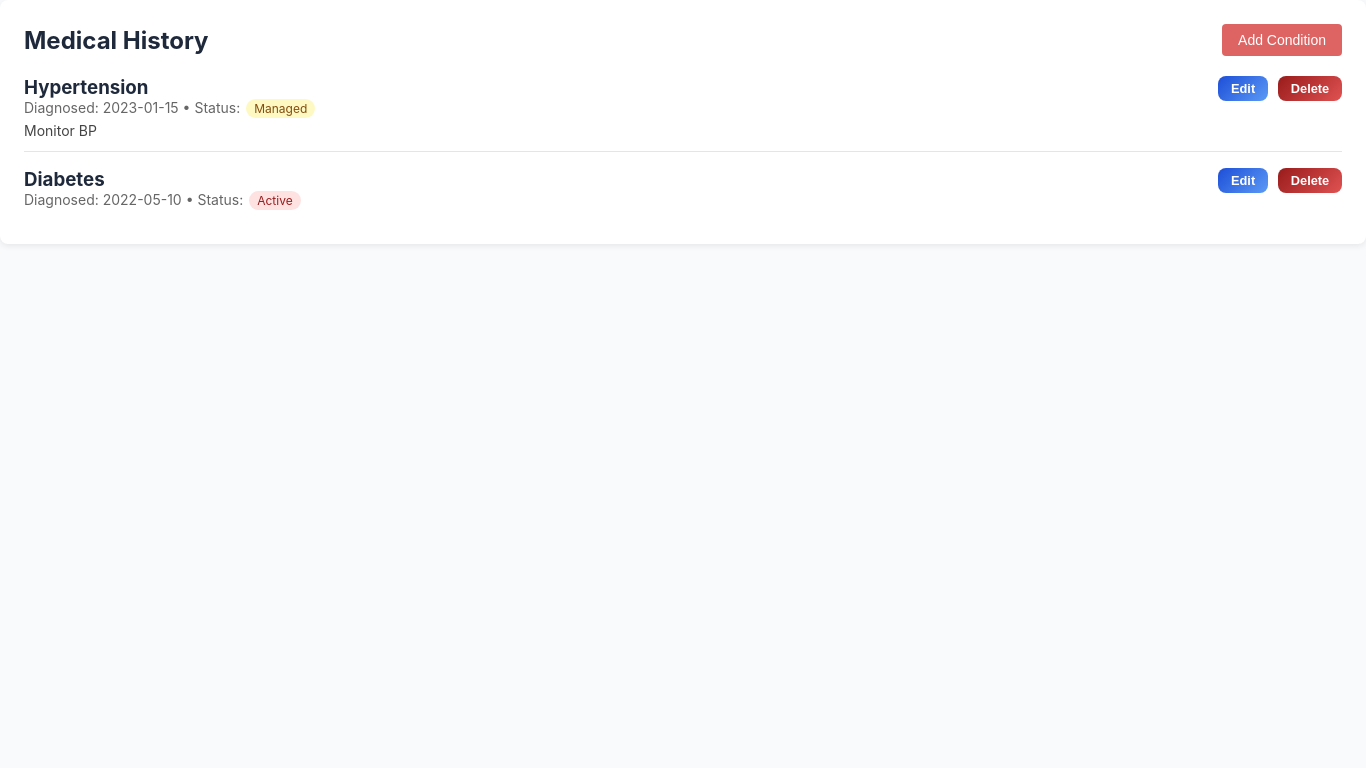
Scenario: MedicalHistory component › populates form when Edit is clicked
The image size is (1366, 768).
expect the heading "Hypertension" is shown: met, box [24,76,148,99]
Click the button "Edit" in the row of "Hypertension".
click(1243, 88)  # box [1218,76,1268,101]
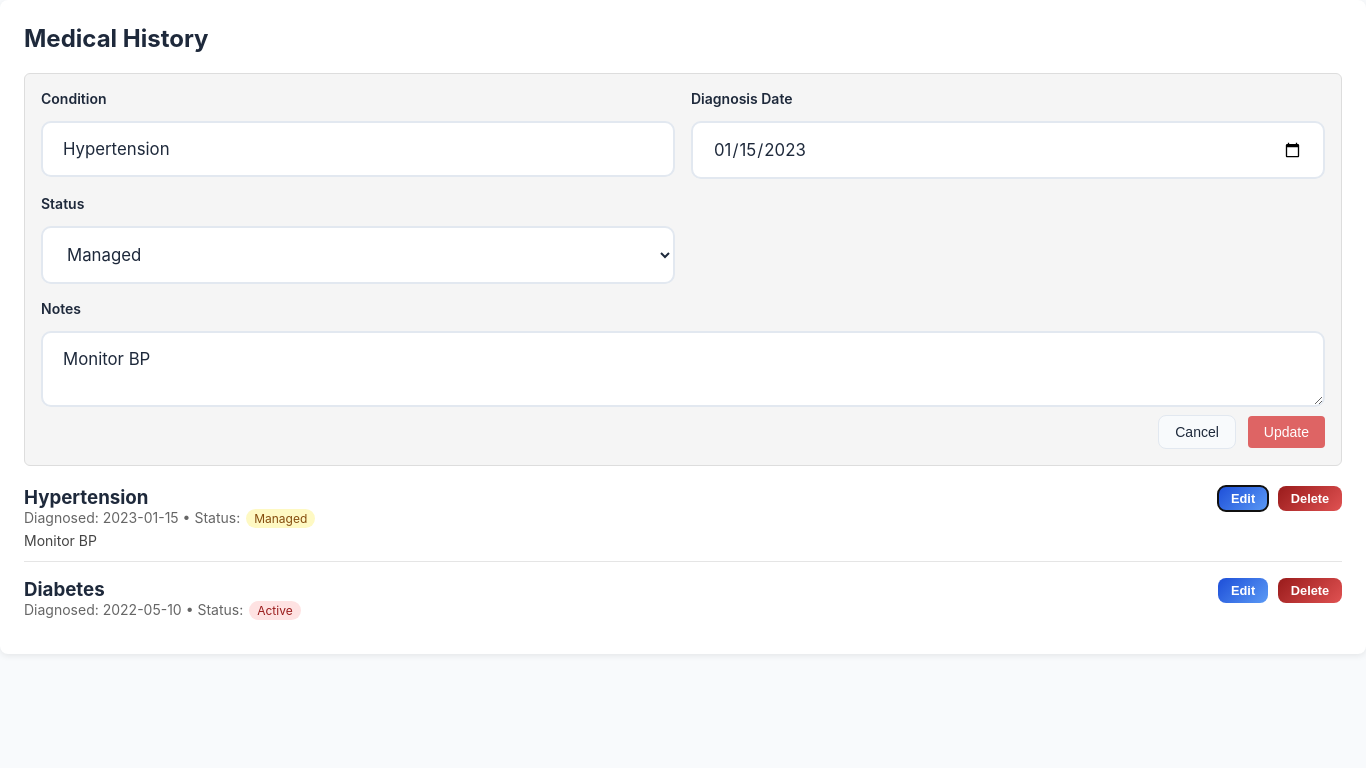
expect the field showing "Hypertension" is shown: met, box [41,121,675,177]
